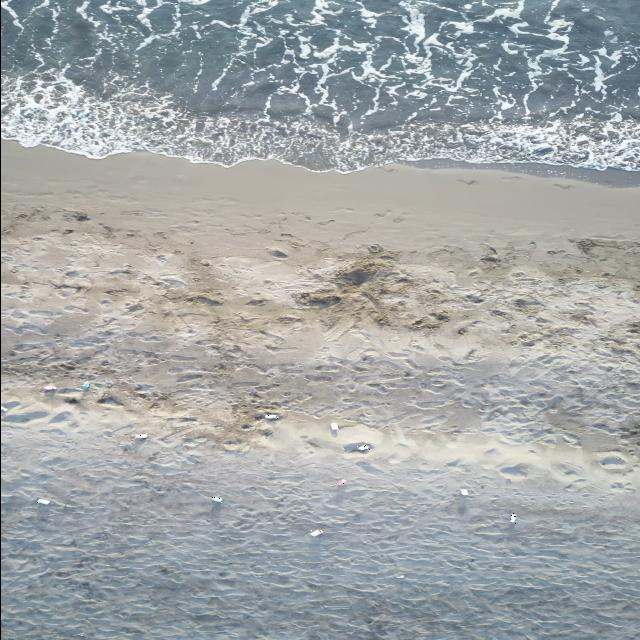Garbage: (344, 442, 372, 452), (96, 393, 121, 404), (329, 422, 339, 435), (263, 412, 279, 420), (272, 248, 287, 256), (308, 528, 323, 535), (356, 443, 369, 451), (64, 395, 76, 403), (44, 384, 55, 392), (136, 432, 147, 439), (36, 498, 48, 504), (212, 495, 220, 503), (0, 404, 7, 412), (81, 382, 88, 390), (460, 487, 467, 495), (510, 512, 515, 523), (336, 479, 346, 484), (396, 573, 404, 577)
